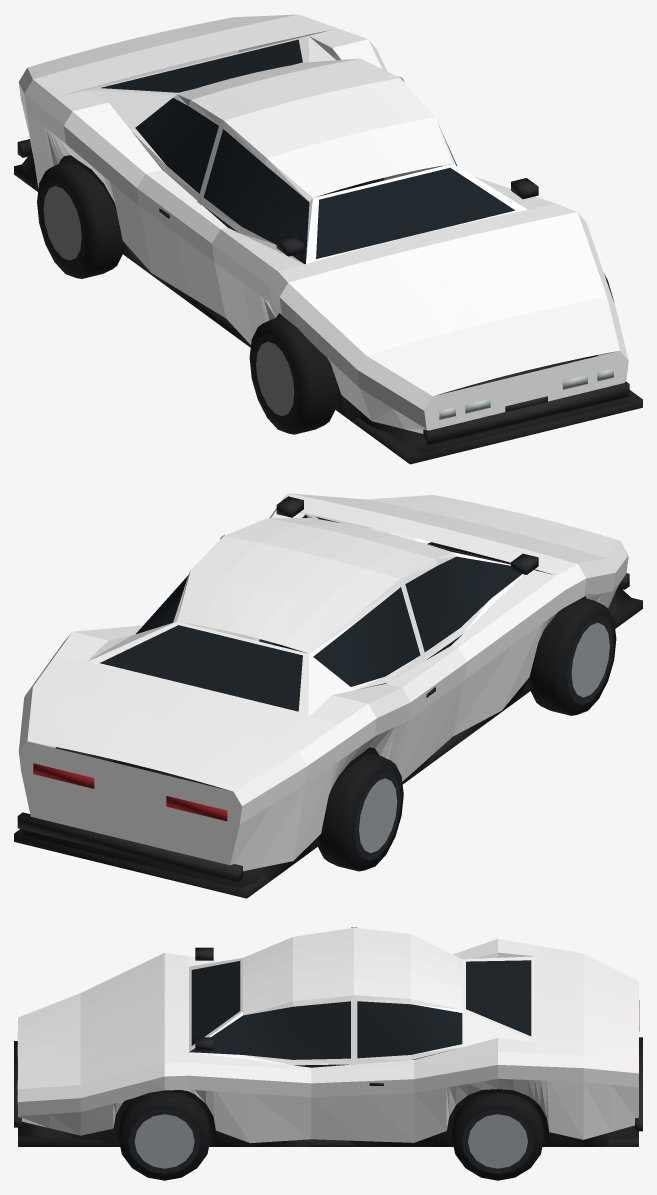
File: vantra_orbita.glb
3 renders of one model, top to bottom at view 1: azimuth 30°, elevation 25°; view 2: azimuth 150°, elevation 25°; view 3: azimuth 270°, elevation 25°, orthographic. The views are drawn at different scales.
Visible parts, largest first — view 1: Body_Paint, Body_Details, Mount_FrontLeft_Wheel_Details, Mount_RearLeft_Wheel_Details; view 2: Body_Paint, Body_Details, Mount_FrontLeft_Wheel_Details, Mount_RearLeft_Wheel_Details; view 3: Body_Paint, Body_Details, Mount_FrontRight_Wheel_Details, Mount_RearRight_Wheel_Details.
Boxes of the visible parts, x1,y1,x2,y2 form: Body_Paint: [18, 14, 628, 433]; Body_Details: [14, 39, 642, 464]; Mount_FrontLeft_Wheel_Details: [249, 316, 337, 434]; Mount_RearLeft_Wheel_Details: [37, 160, 124, 278]; Body_Paint: [18, 493, 628, 871]; Body_Details: [14, 496, 642, 898]; Mount_FrontLeft_Wheel_Details: [529, 597, 616, 715]; Mount_RearLeft_Wheel_Details: [317, 753, 403, 871]; Body_Paint: [18, 927, 638, 1143]; Body_Details: [14, 947, 642, 1146]; Mount_FrontRight_Wheel_Details: [118, 1092, 210, 1180]; Mount_RearRight_Wheel_Details: [451, 1093, 544, 1180].
Size of the model in its own units: 2 by 1.27 by 4.41.
Materials: 2 (1 with a texture image).
